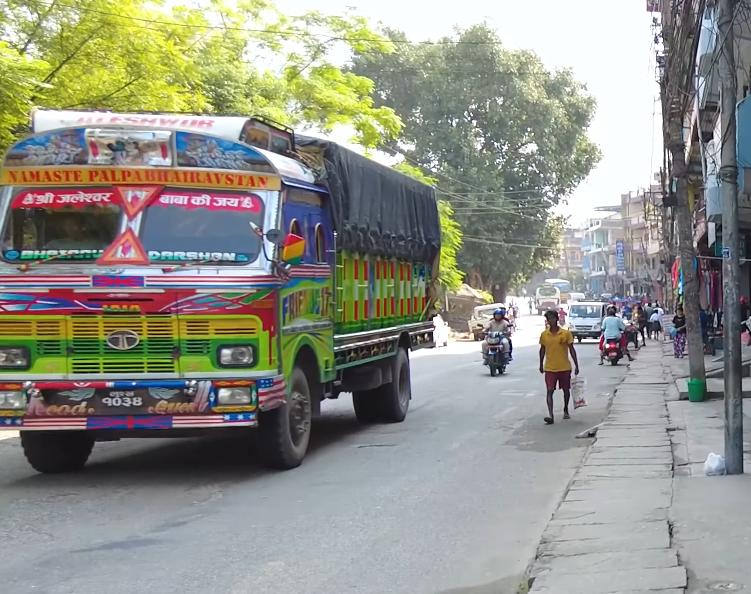bike: (479, 324, 513, 376)
scooter: (534, 283, 563, 316), (600, 335, 626, 368)
truck: (0, 106, 442, 472)
